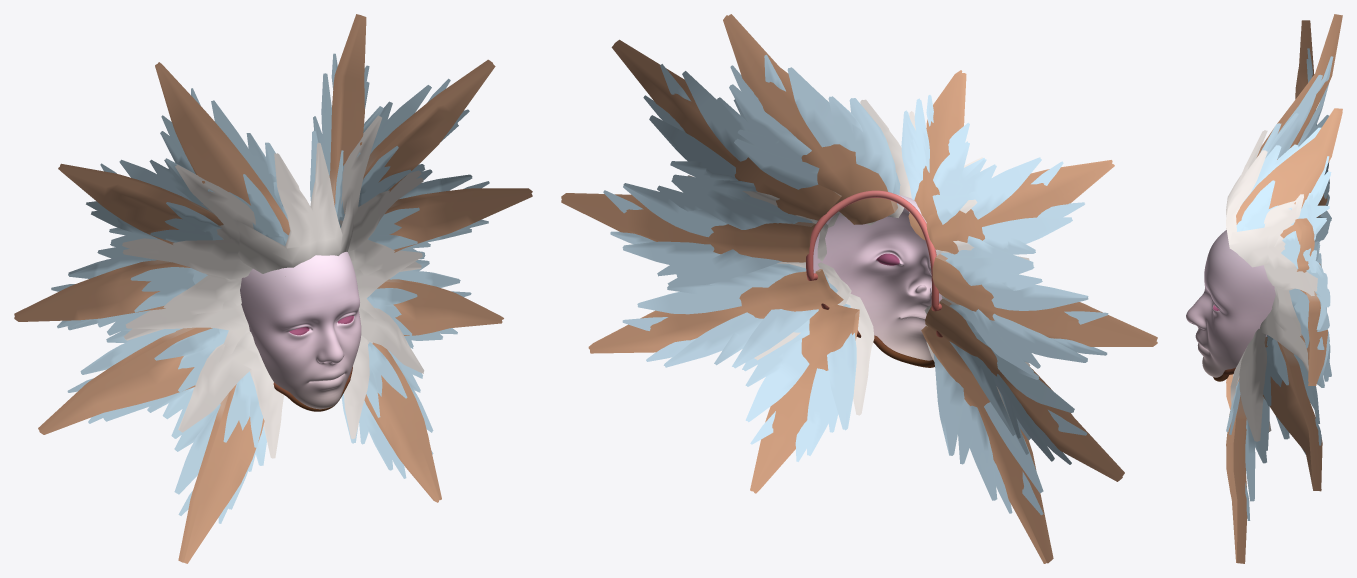
The model's file is Mask_Normal7.glb.
3 views of the same model, side by side, from view 1: azimuth 30°, elevation 25°; view 2: azimuth 150°, elevation 25°; view 3: azimuth 270°, elevation 25° (orthographic). The views are drawn at different scales.
Visible parts, largest first — view 1: BézierCurve.001, Female Average Head; view 2: BézierCurve.001, Female Average Head; view 3: BézierCurve.001, Female Average Head.
Part boxes in pixels (box(x1,y1,x2,y2)): BézierCurve.001: box(14, 14, 532, 563); Female Average Head: box(240, 252, 361, 411); BézierCurve.001: box(561, 14, 1157, 563); Female Average Head: box(806, 190, 942, 367); BézierCurve.001: box(1226, 14, 1342, 563); Female Average Head: box(1186, 230, 1275, 381).
Bounding box in the file's own units: 0.6544 × 0.5562 × 0.1782.
2 materials, 2 textured.
